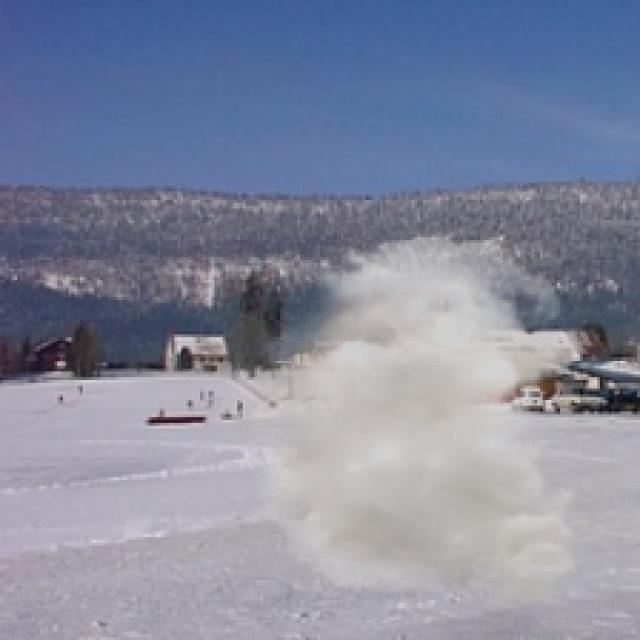smoke: (206, 234, 597, 609)
